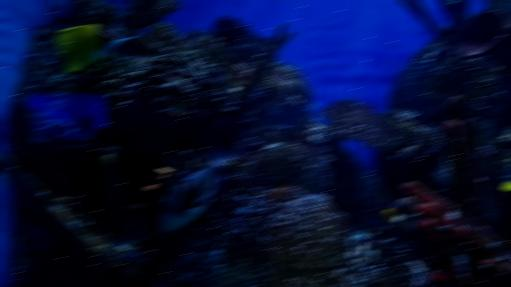Fish: (159, 148, 230, 232), (56, 24, 157, 72), (383, 196, 424, 231), (501, 186, 510, 189)
